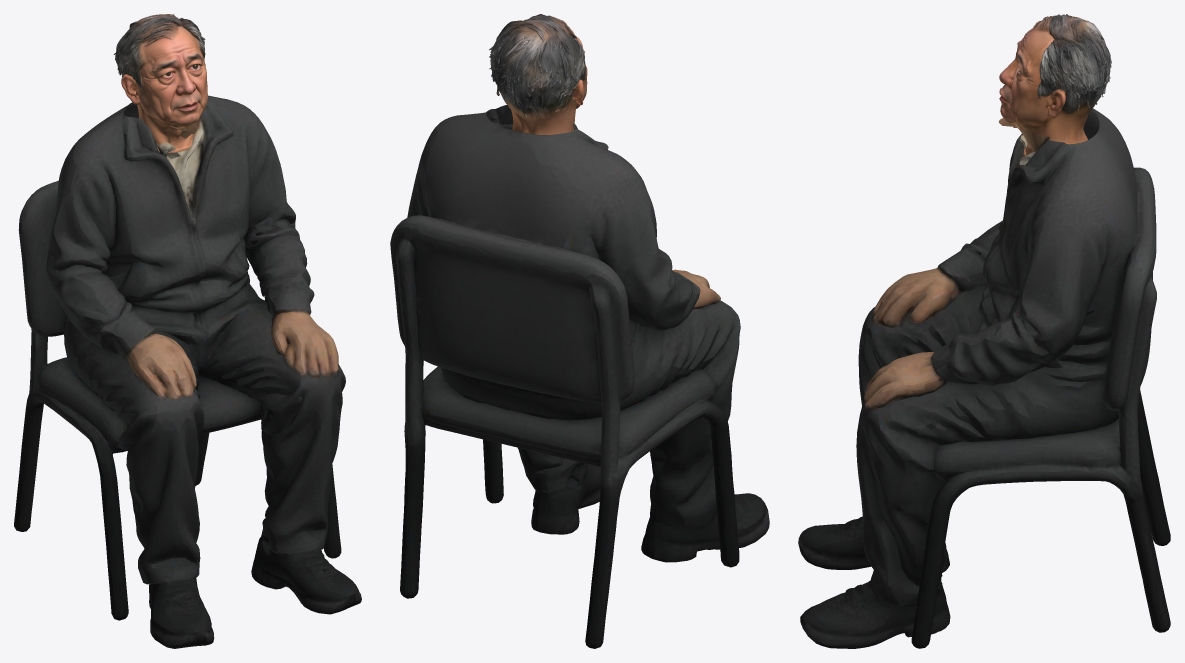
File: clinic-patient.glb
3 views of the same model, side by side, from view 1: azimuth 30°, elevation 25°; view 2: azimuth 150°, elevation 25°; view 3: azimuth 270°, elevation 25° (orthographic). The views are drawn at different scales.
Visible parts, largest first — view 1: Clinic_Seated_Body, Clinic_Detailed_Head; view 2: Clinic_Seated_Body, Clinic_Detailed_Head; view 3: Clinic_Seated_Body, Clinic_Detailed_Head.
Boxes of the visible parts, <box> form: Clinic_Seated_Body: <box>14,95,361,648</box>; Clinic_Detailed_Head: <box>113,14,207,153</box>; Clinic_Seated_Body: <box>390,105,769,648</box>; Clinic_Detailed_Head: <box>489,14,587,134</box>; Clinic_Seated_Body: <box>798,108,1170,648</box>; Clinic_Detailed_Head: <box>999,14,1111,156</box>.
Bounding box in the file's own units: 0.6841 × 1.43 × 0.8301.
Materials: 2 (2 with a texture image).
